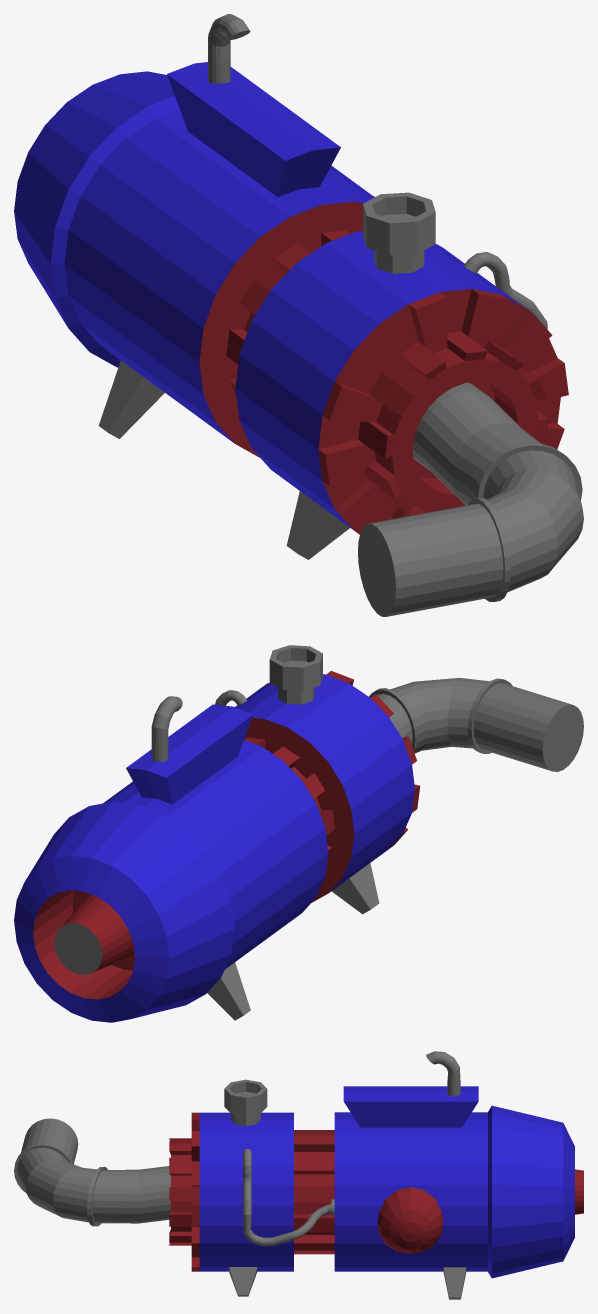
Rendered from pumpe.fbx.
The picture shows the model from 3 angles, top to bottom: view 1: azimuth 30°, elevation 25°; view 2: azimuth 150°, elevation 25°; view 3: azimuth 270°, elevation 25°; orthographic projection. The views are drawn at different scales.
Visible parts, largest first — view 1: Cylinder; view 2: Cylinder; view 3: Cylinder.
Boxes of the visible parts, box(x1,y1,x2,y2) form: Cylinder: box(14, 14, 583, 616); Cylinder: box(14, 645, 583, 1022); Cylinder: box(14, 1051, 583, 1299).
Bounding box in the file's own units: 289 × 315 × 712.
